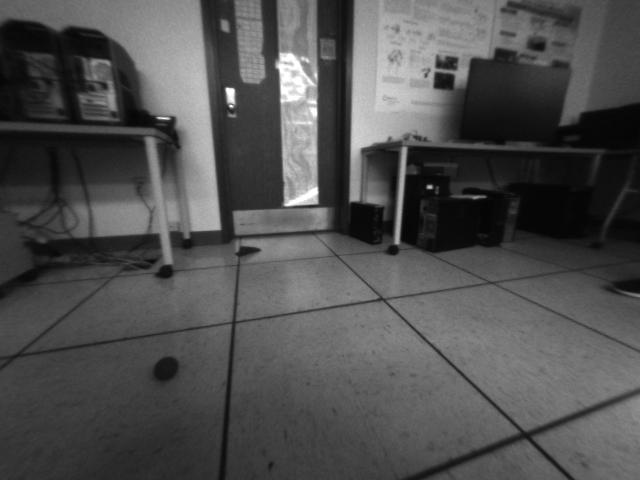dogtoy: (148, 350, 181, 388)
